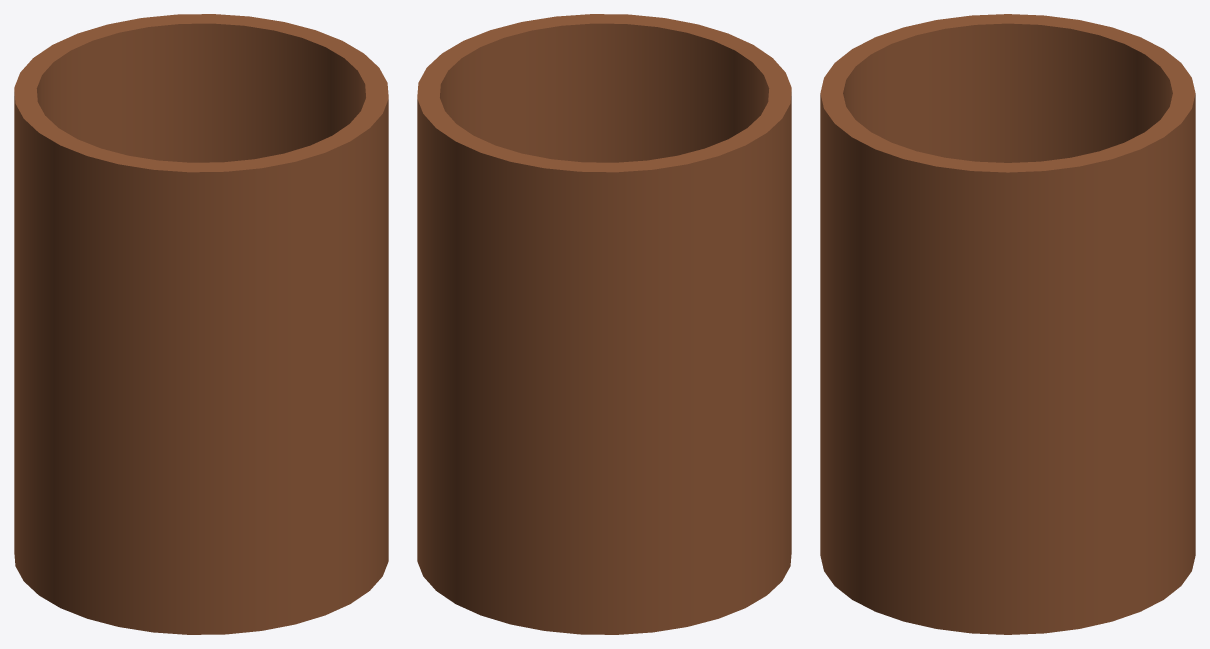
File: dustbin.fbx
The picture shows the model from 3 angles, left to right: view 1: azimuth 30°, elevation 25°; view 2: azimuth 150°, elevation 25°; view 3: azimuth 270°, elevation 25°; orthographic projection.
Parts seen in each view (by area): view 1: Dustbin; view 2: Dustbin; view 3: Dustbin.
Part boxes in pixels (<box>): Dustbin: <box>14,14,388,634</box>; Dustbin: <box>417,14,791,634</box>; Dustbin: <box>820,14,1195,634</box>.
Size of the model in its own units: 200 by 272 by 200.
